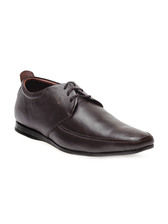shoes: (10, 70, 158, 156)
